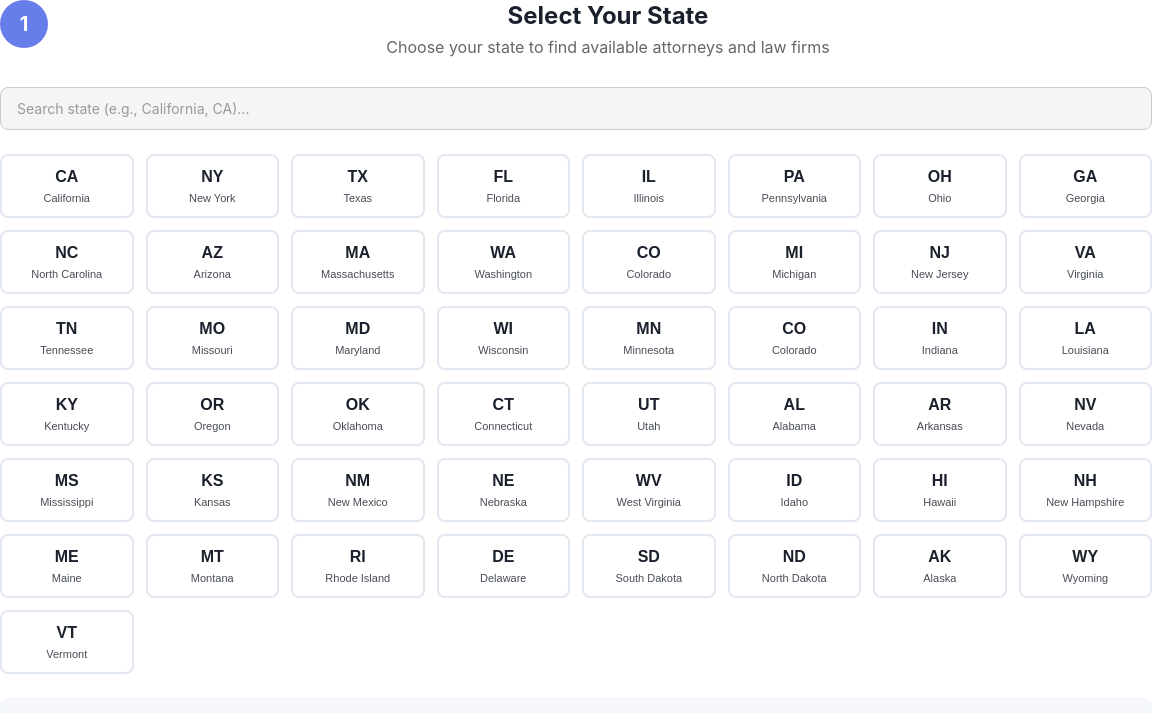
Test: FindAttorneyStep1 › Search Functionality › filters states by state code
The width and height of the screenshot is (1152, 713).
In the field with test id "state-search-input": point(576, 108) [0, 87, 1151, 130], type "CA"
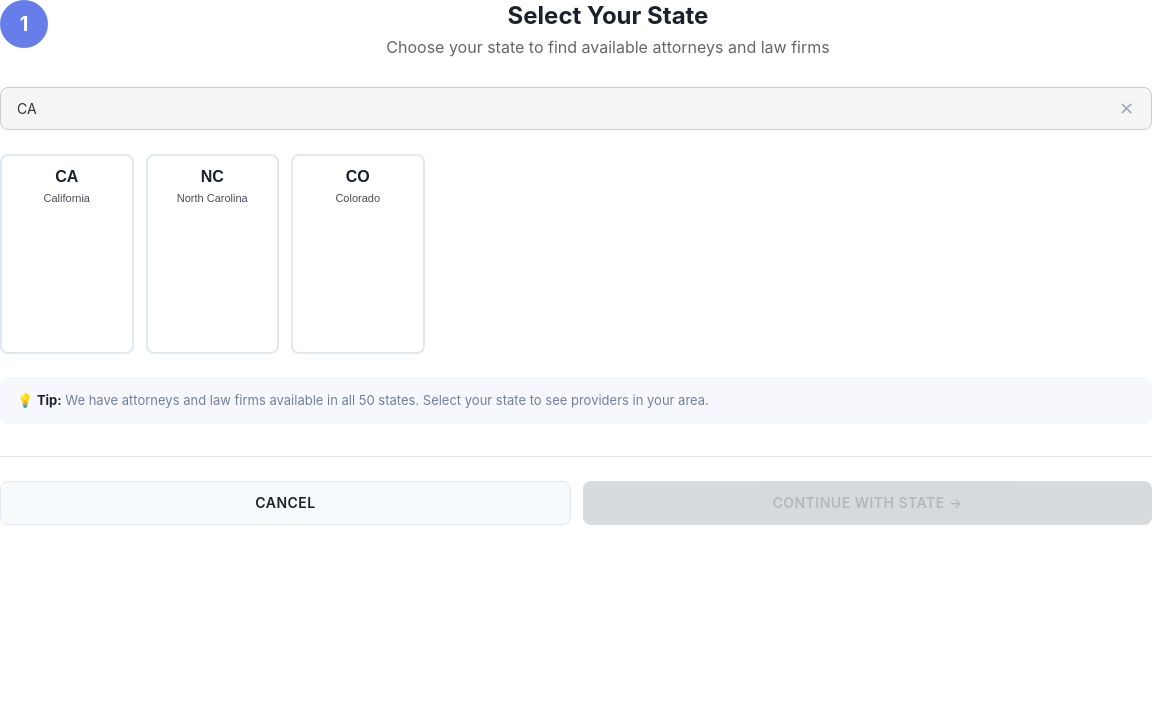
Expected: the button with test id "state-button-CA" is shown, [0, 154, 134, 354]
Expected: the button with test id "state-button-NY" is gone
